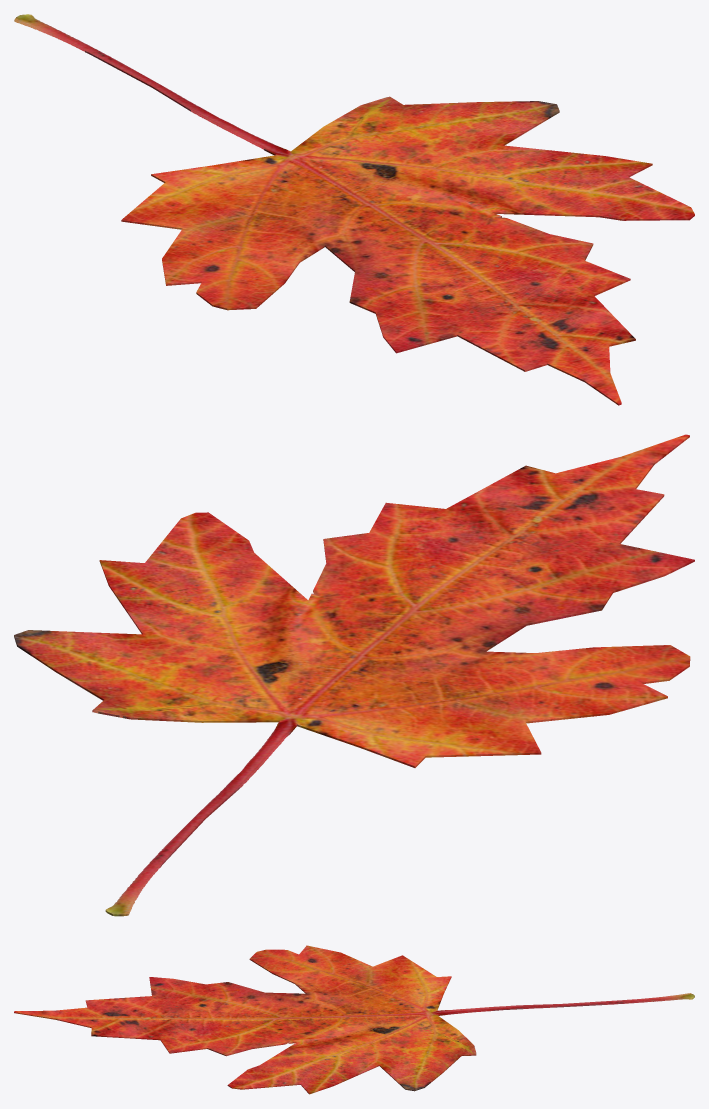
Rendered from leaf_4.fbx.
3 renders of one model, top to bottom at view 1: azimuth 30°, elevation 25°; view 2: azimuth 150°, elevation 25°; view 3: azimuth 270°, elevation 25°, orthographic. The views are drawn at different scales.
Parts seen in each view (by area): view 1: leaf_04; view 2: leaf_04; view 3: leaf_04.
Boxes of the visible parts, x1,y1,x2,y2 form: leaf_04: [14, 14, 694, 405]; leaf_04: [14, 434, 694, 916]; leaf_04: [14, 945, 694, 1094].
Bounding box in the file's own units: 329 × 1 × 639.
